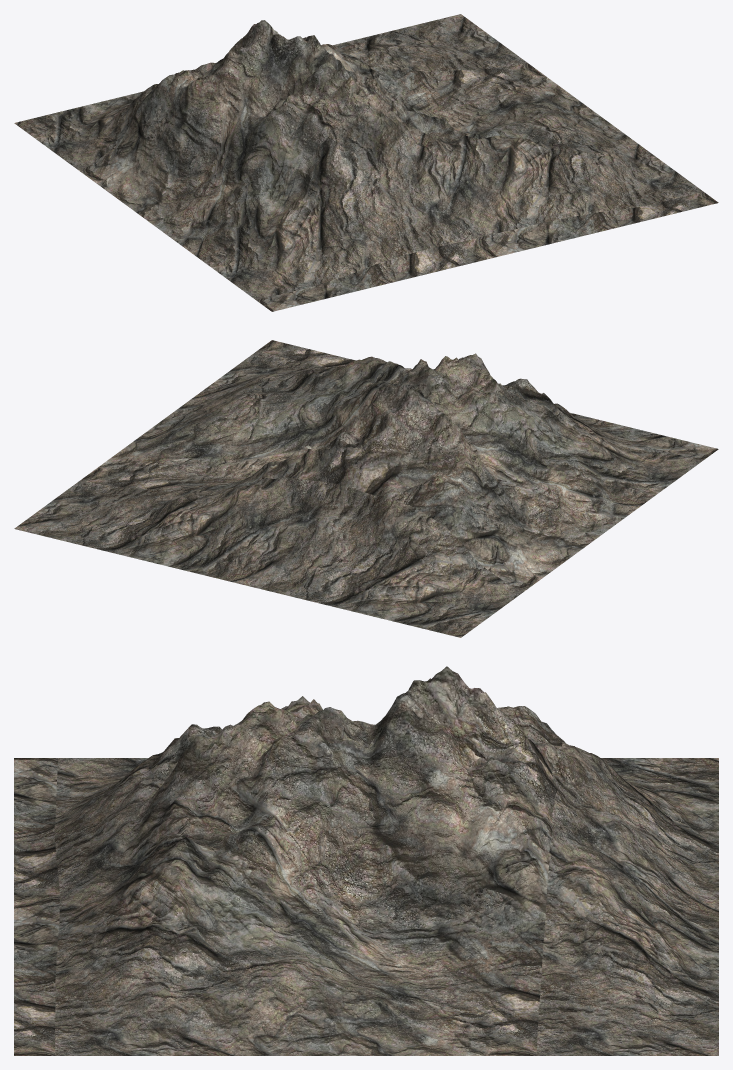
The model's file is mount.gltf.
3 renders of one model, top to bottom at view 1: azimuth 30°, elevation 25°; view 2: azimuth 150°, elevation 25°; view 3: azimuth 270°, elevation 25°, orthographic. The views are drawn at different scales.
Parts seen in each view (by area): view 1: Landscape; view 2: Landscape; view 3: Landscape.
Part boxes in pixels (box(x1,y1,x2,y2)): Landscape: box(14, 14, 718, 311); Landscape: box(14, 340, 718, 637); Landscape: box(14, 666, 718, 1055).
Bounding box in the file's own units: 2 × 0.596 × 2.
Materials: 1 (1 with a texture image).
